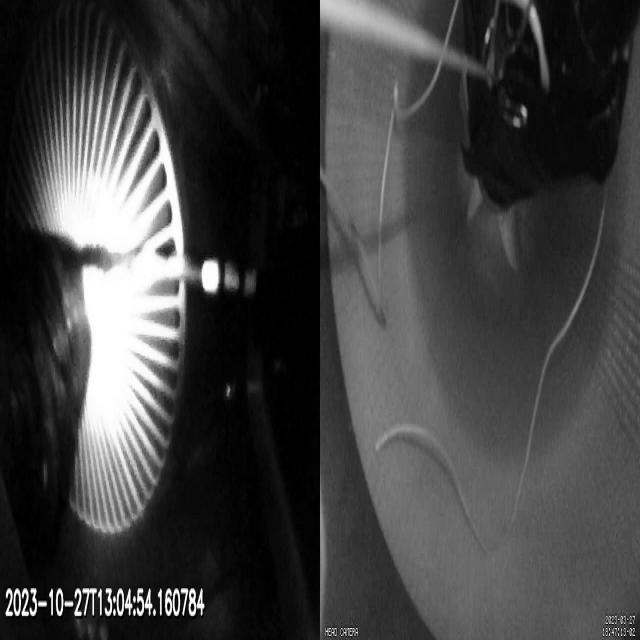white-dots: (202, 257, 256, 295)
